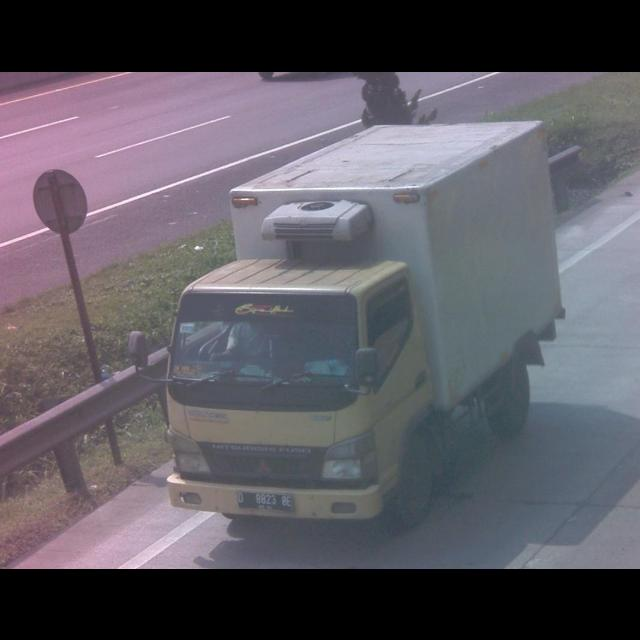plate: (236, 490, 294, 512)
